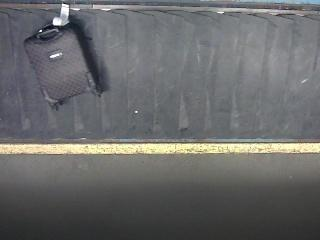Suitcase: (25, 28, 95, 104)
